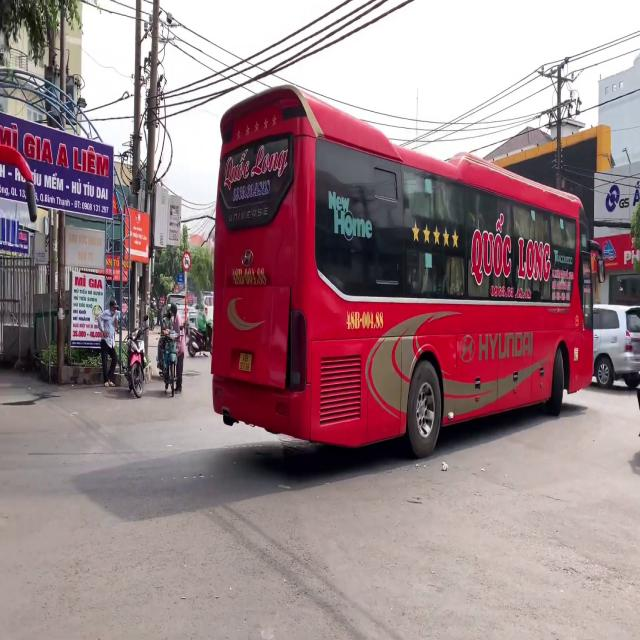bien_vang: (239, 352, 252, 373)
